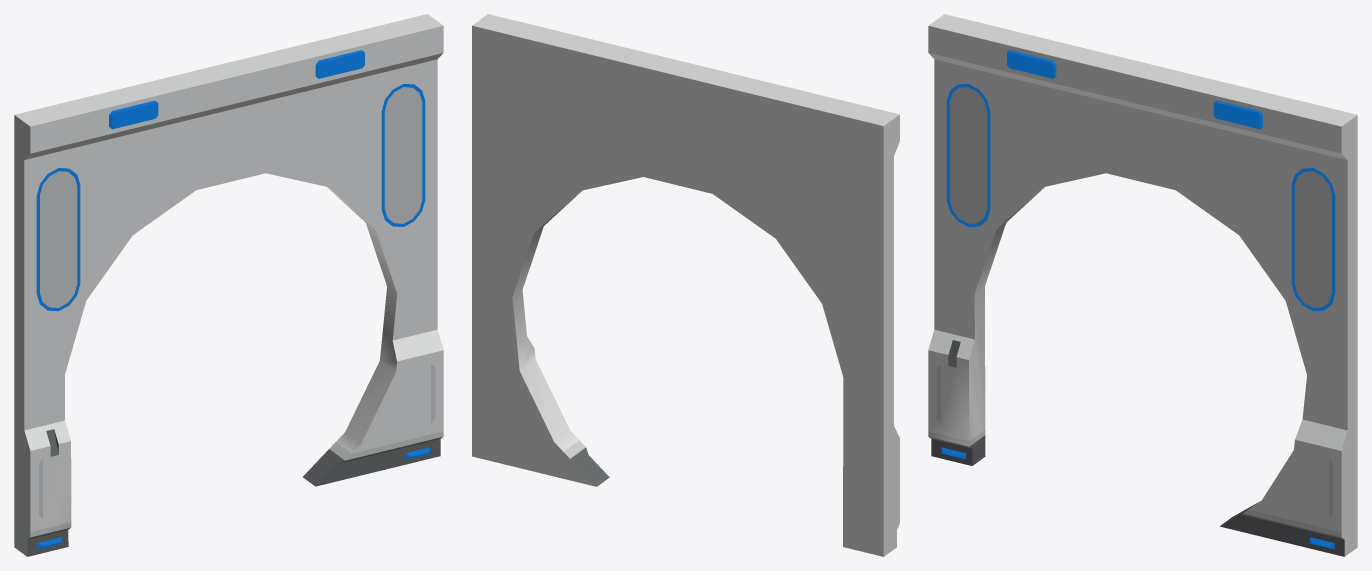
File: Wall_type_A_056.glb
3 renders of one model, left to right at view 1: azimuth 30°, elevation 25°; view 2: azimuth 150°, elevation 25°; view 3: azimuth 330°, elevation 25°, orthographic.
Visible parts, largest first — view 1: Wall_type_A_056; view 2: Wall_type_A_056; view 3: Wall_type_A_056.
Boxes of the visible parts, box(x1,y1,x2,y2) form: Wall_type_A_056: box(14, 14, 443, 556); Wall_type_A_056: box(472, 14, 899, 556); Wall_type_A_056: box(928, 14, 1357, 556).
Size of the model in its own units: 4 by 4 by 0.2898.
Materials: 2 (2 with a texture image).
